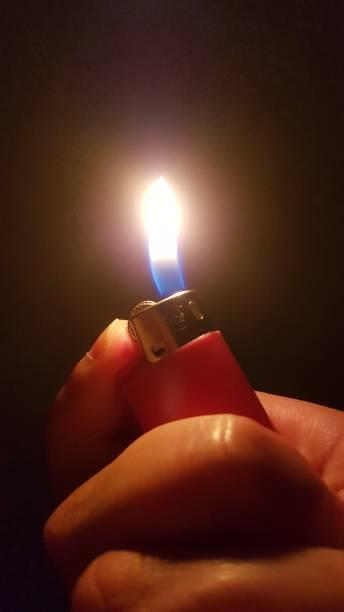Fire: (135, 170, 198, 300)
